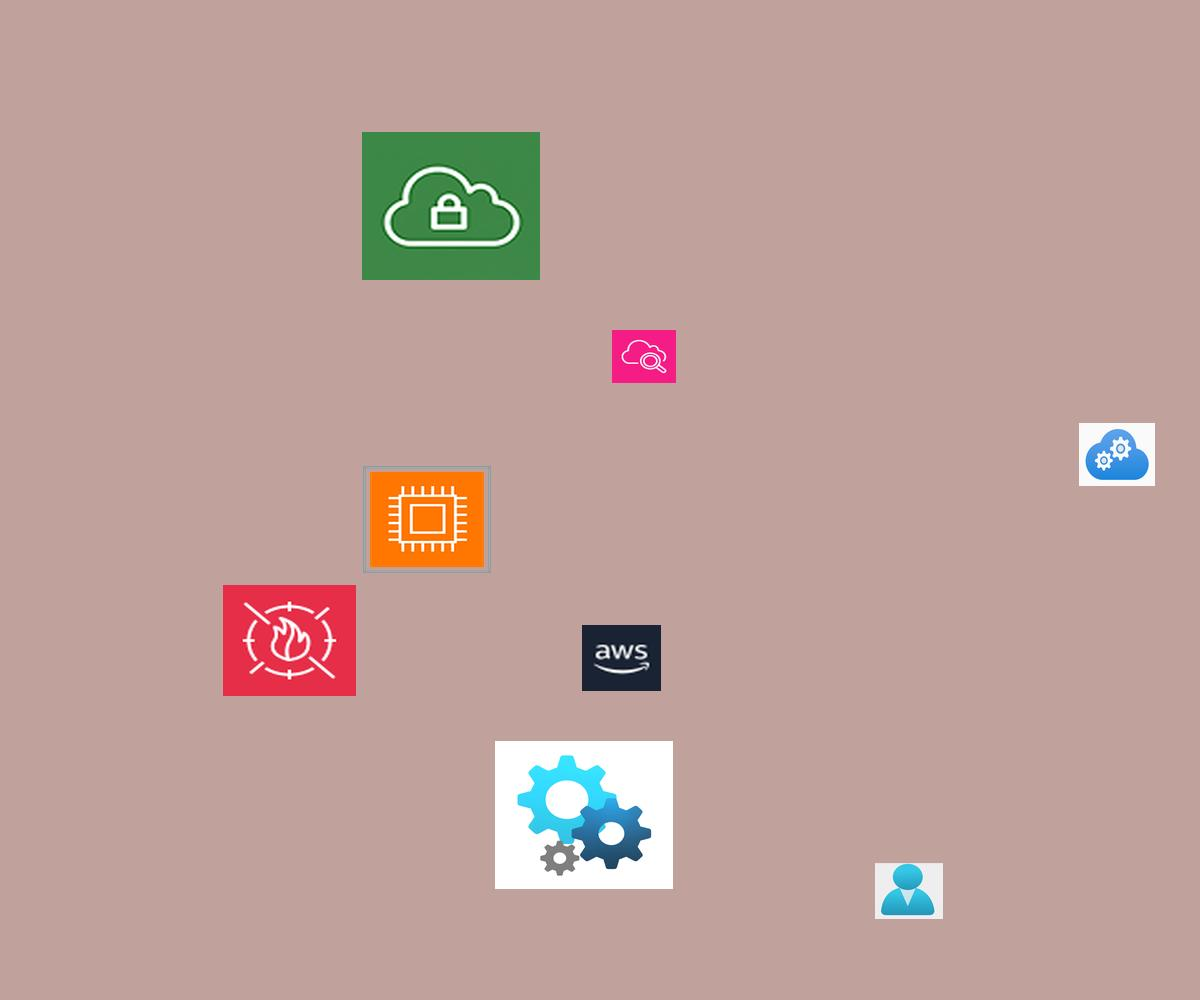AWS-Category_Compute: (363, 466, 491, 573)
AWS-Cloud-logo: (582, 625, 661, 691)
AWS-CloudWatch: (612, 330, 676, 383)
AWS-Private_vpc: (362, 132, 540, 280)
AWS-WAF: (223, 585, 356, 696)
Azure_api: (495, 741, 673, 889)
Azure_cloud_services: (1079, 423, 1155, 486)
Azure_users: (875, 863, 943, 919)
